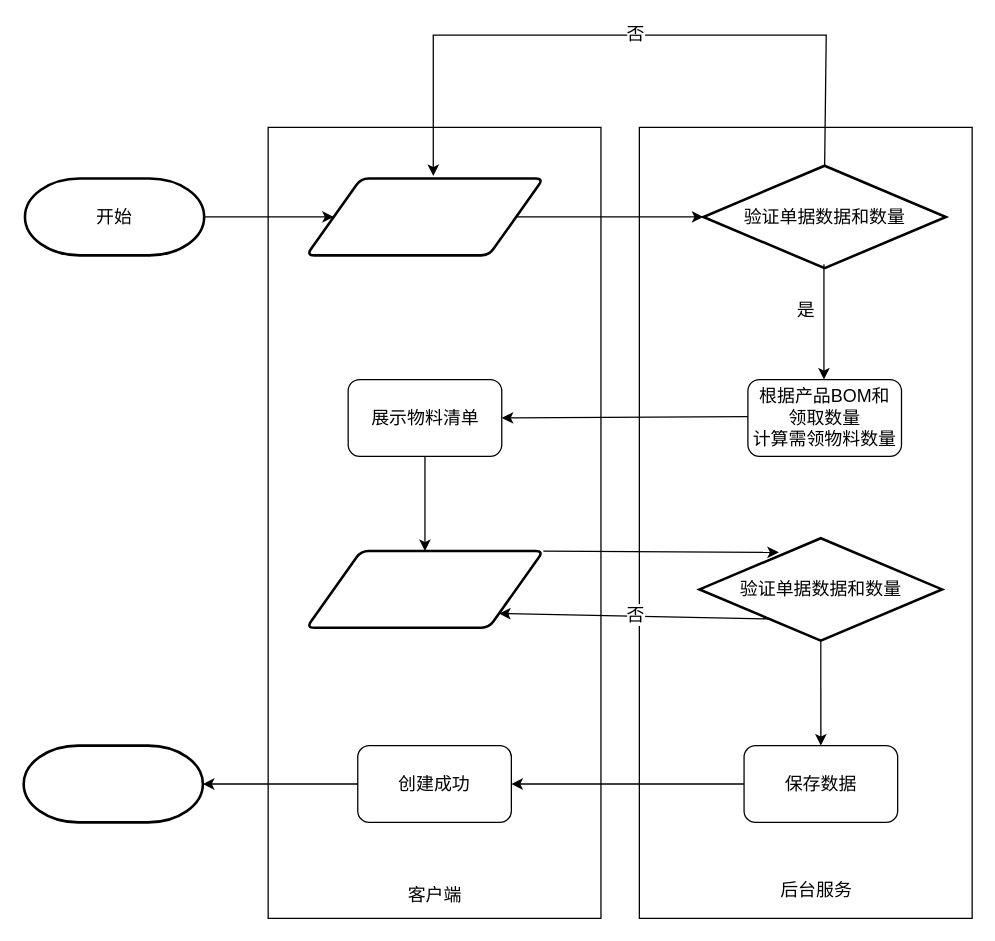
This 995x941 diagram has some shape labels left out. The shapes that lost their labels are listed below. From the top down, each one's box as (x1, y1, x2, y2) in pixels, then its label:
(305, 177, 544, 256): 关联制令单、产品 输入领取数量
(305, 549, 544, 628): 调整最后需领 物料和数量
(22, 744, 204, 823): 结束
